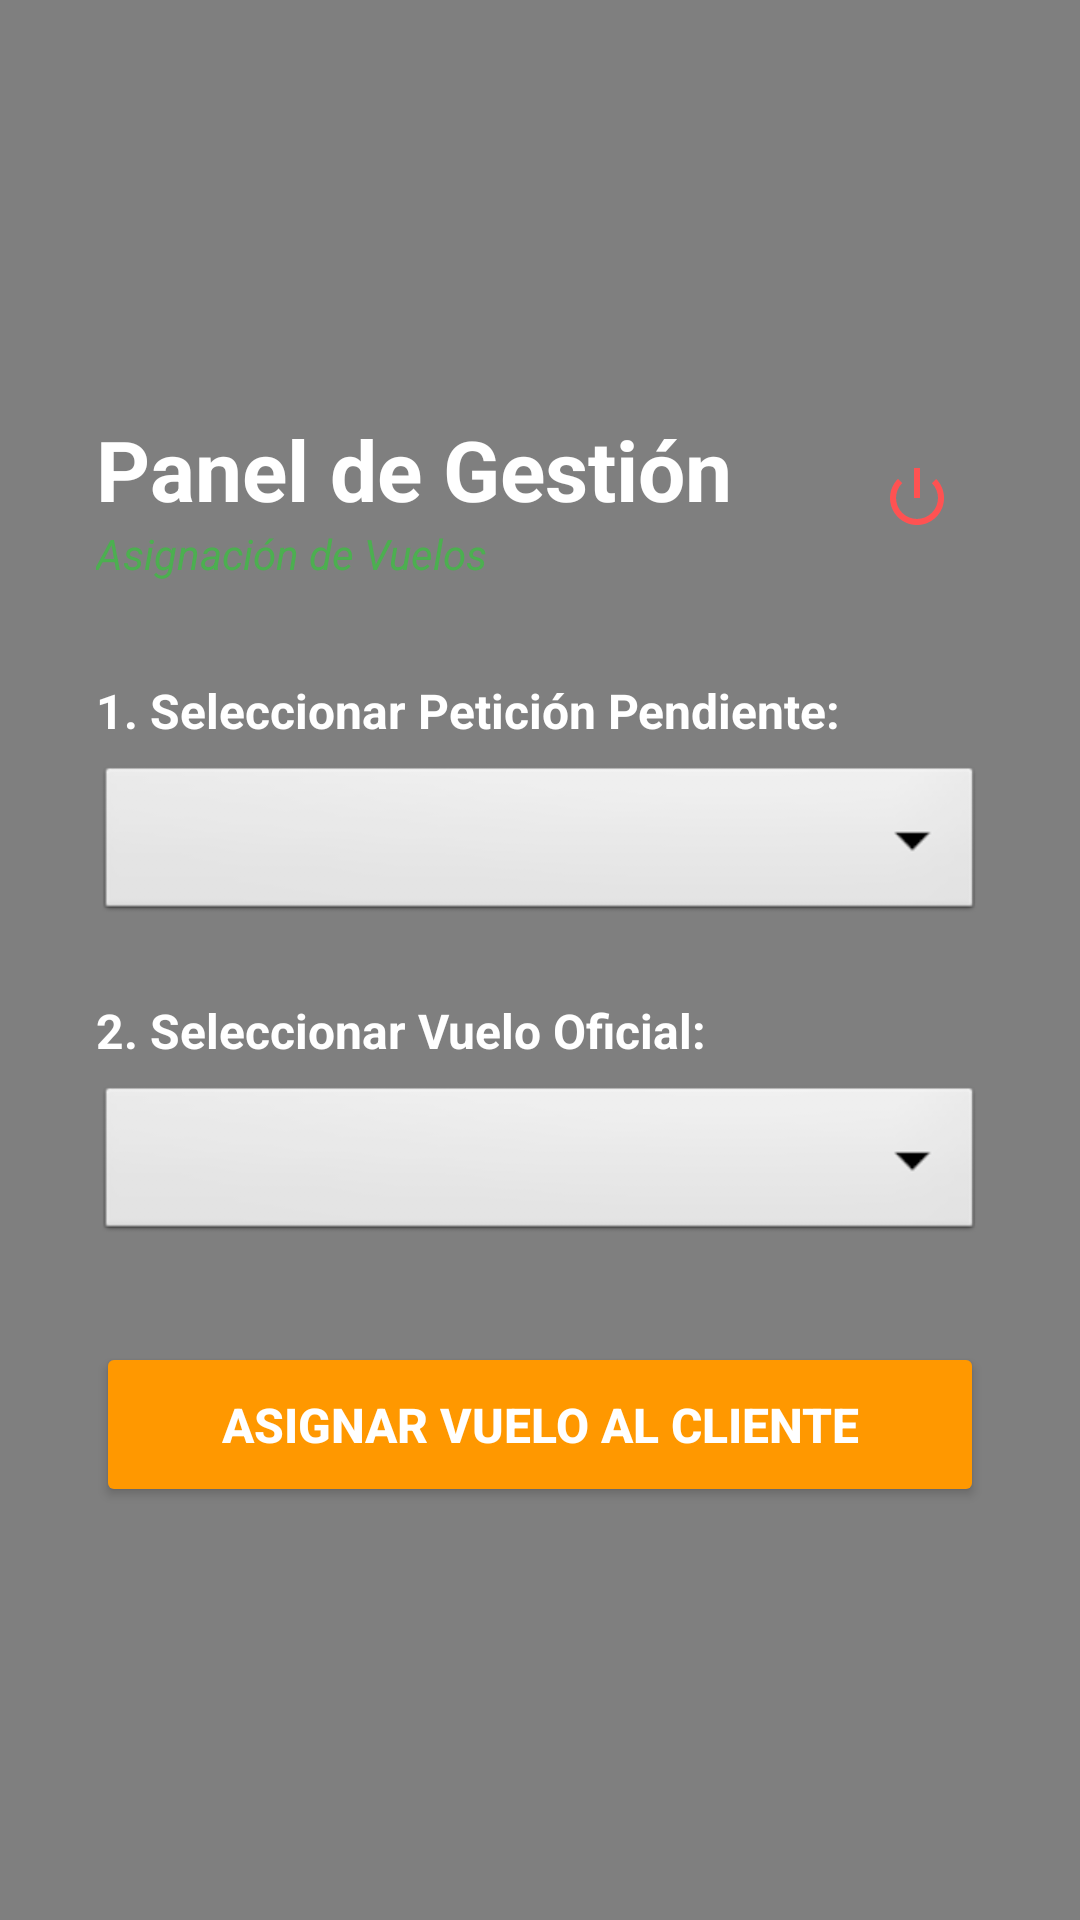

Screen size 1080 × 1920. Icon name, then its center in pixels as (x,y):
lock power off: (917,496)
